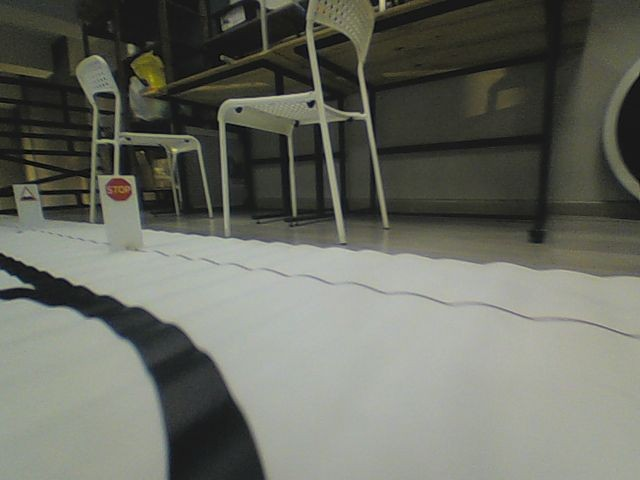Nerov: (17, 184, 37, 203)
Stop: (104, 177, 133, 202)
